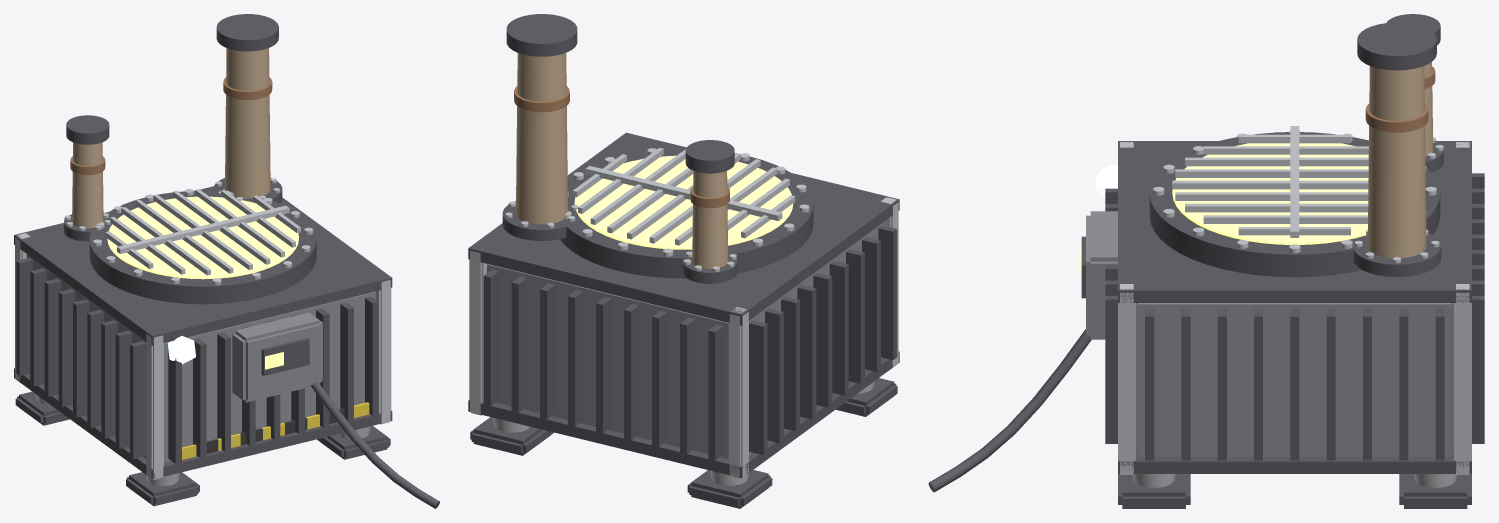
The model's file is heater.fbx.
3 views of the same model, side by side, from view 1: azimuth 30°, elevation 25°; view 2: azimuth 150°, elevation 25°; view 3: azimuth 270°, elevation 25° (orthographic). The views are drawn at different scales.
Visible parts, largest first — view 1: heater, Indicator; view 2: heater; view 3: heater.
Boxes of the visible parts, x1=… form: heater: x1=14, y1=14, x2=439, y2=508; Indicator: x1=167, y1=336, x2=195, y2=364; heater: x1=468, y1=14, x2=899, y2=508; heater: x1=928, y1=14, x2=1484, y2=508.
Size of the model in its own units: 1.67 by 2.19 by 2.45.
